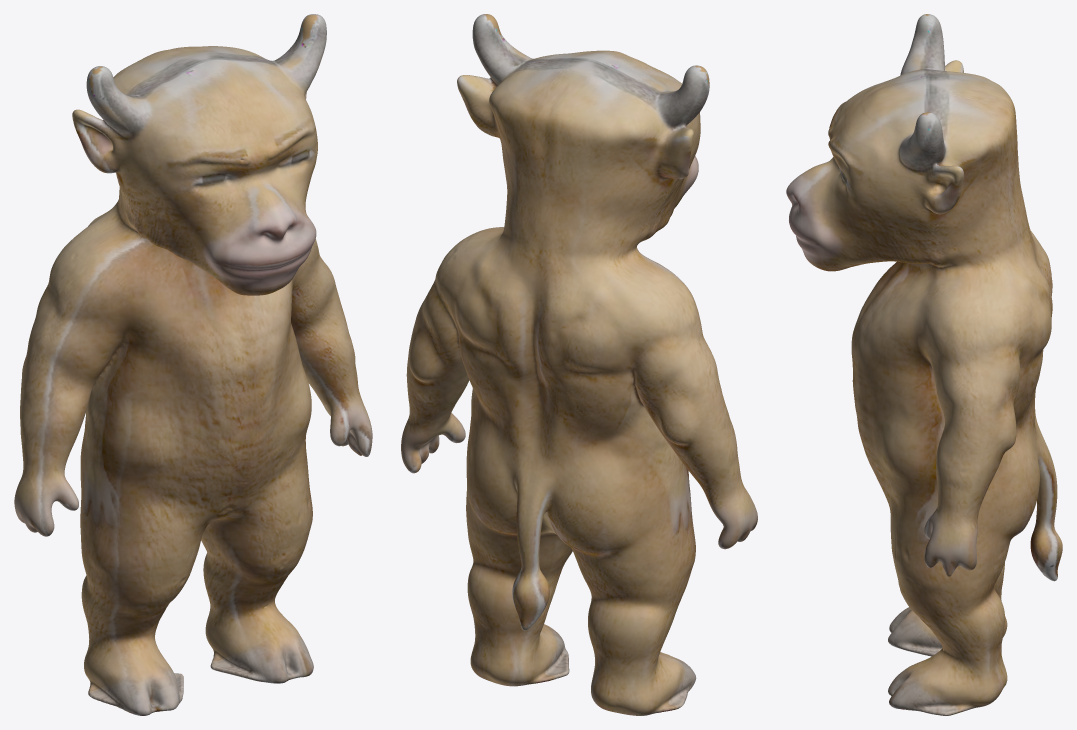
The model's file is bull.glb.
3 views of the same model, side by side, from view 1: azimuth 30°, elevation 25°; view 2: azimuth 150°, elevation 25°; view 3: azimuth 270°, elevation 25° (orthographic). The views are drawn at different scales.
Parts seen in each view (by area): view 1: geometry_0; view 2: geometry_0; view 3: geometry_0.
Part boxes in pixels (<box>): geometry_0: <box>14,14,372,715</box>; geometry_0: <box>401,14,757,715</box>; geometry_0: <box>786,14,1062,715</box>.
Bounding box in the file's own units: 1.13 × 2 × 0.8268.
